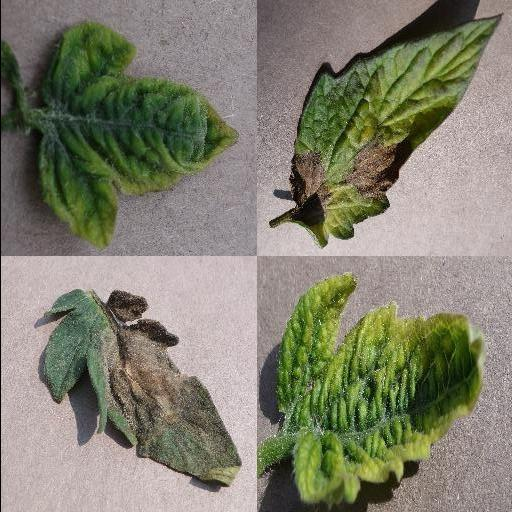Late Blight: (287, 11, 505, 249), (41, 289, 241, 487)
Yellow Leaf Curl Virus: (275, 272, 491, 509), (37, 20, 237, 249)
